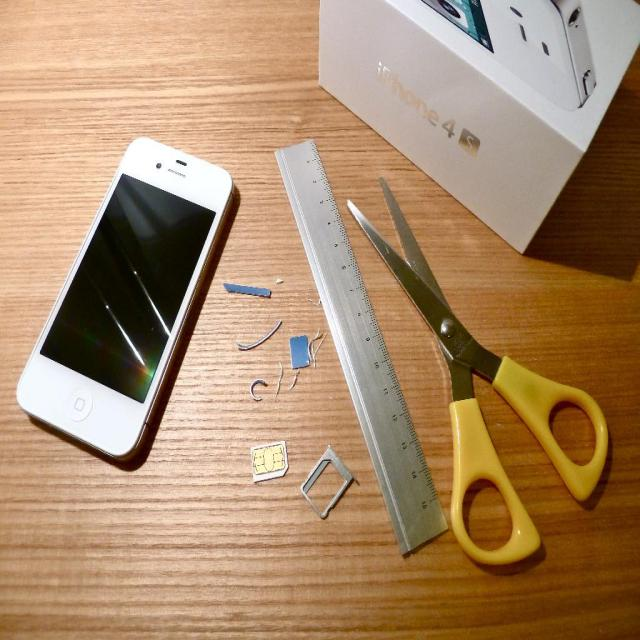scissors: (346, 176, 608, 566)
